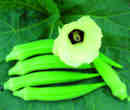okra: (12, 80, 109, 102), (93, 56, 129, 102), (9, 57, 90, 71), (6, 39, 57, 61)
